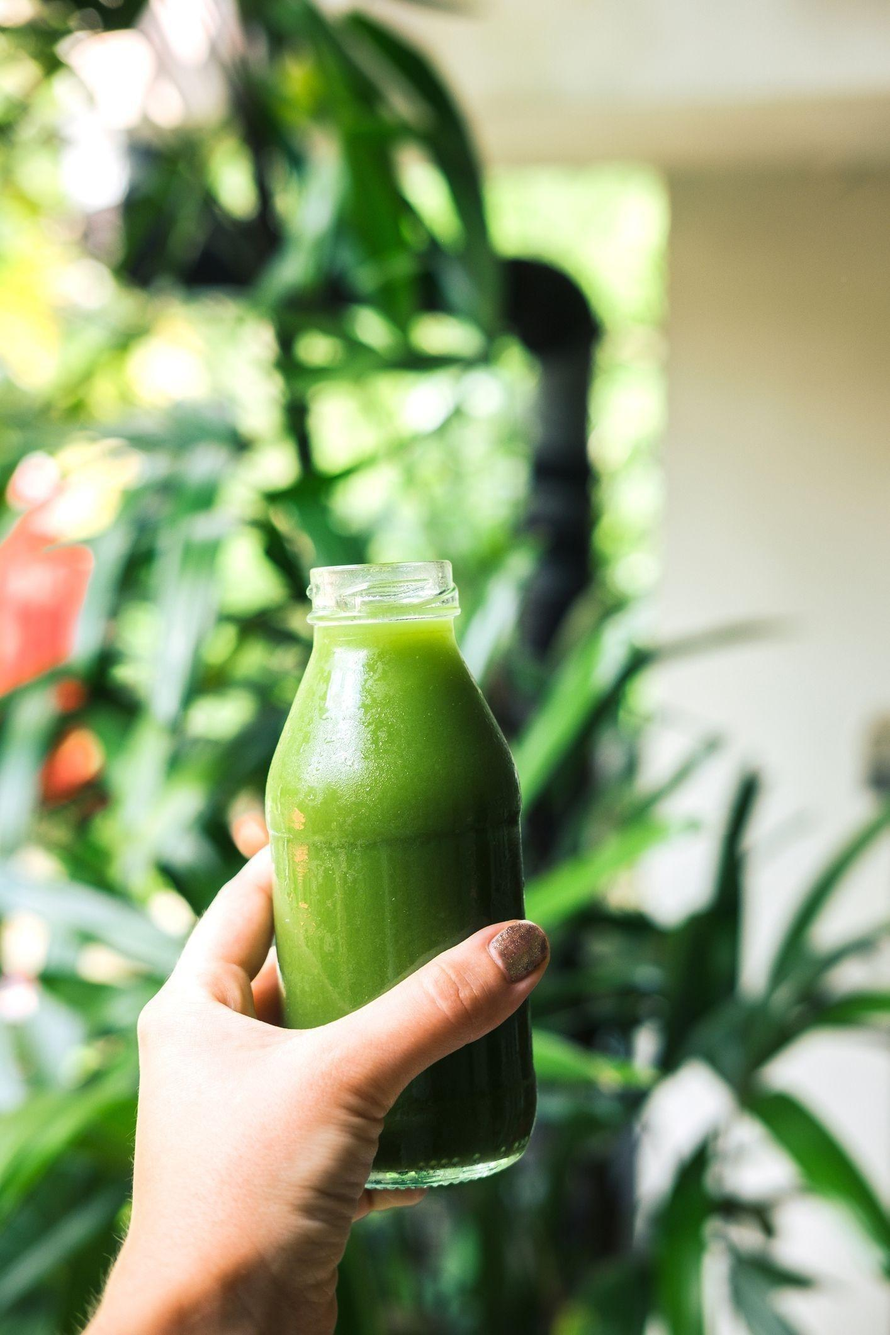bottle-glass: (261, 556, 539, 1181)
